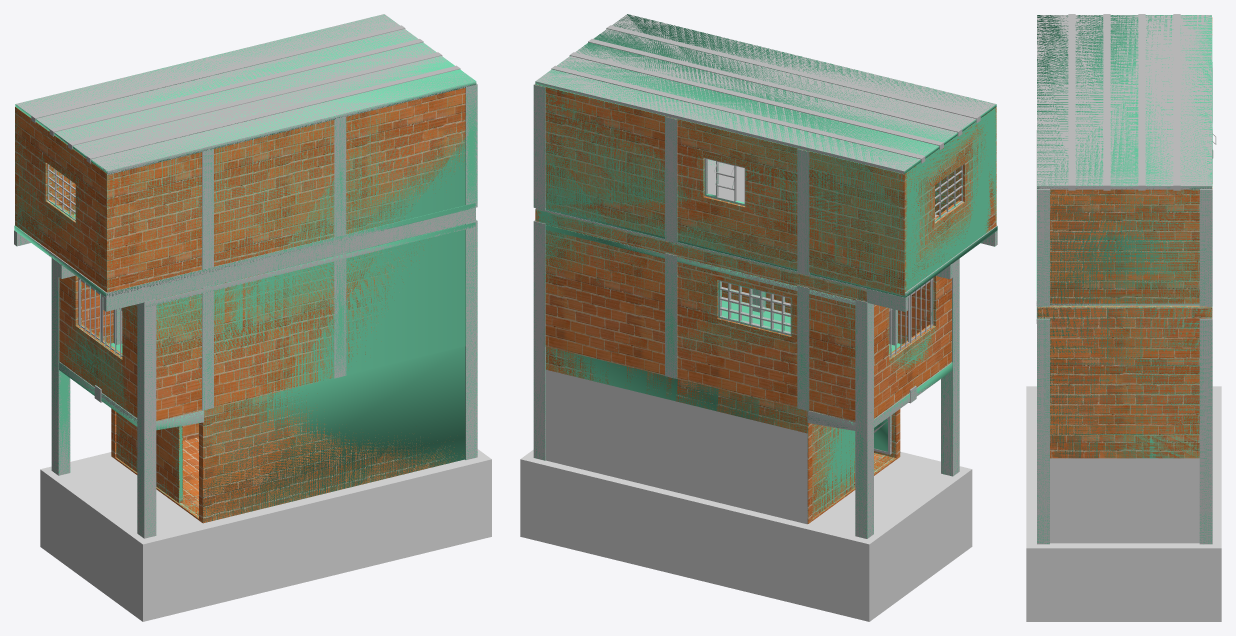
File: CASA 14.fbx
3 views of the same model, side by side, from view 1: azimuth 30°, elevation 25°; view 2: azimuth 150°, elevation 25°; view 3: azimuth 270°, elevation 25° (orthographic). The views are drawn at different scales.
Parts seen in each view (by area): view 1: CASA14_LOD0, UTM_CASA14, Cube_LOD0; view 2: CASA14_LOD0, UTM_CASA14, Cube_LOD0, OCC_Oclusion1; view 3: CASA14_LOD0, UTM_CASA14, Cube_LOD0, OCC_Oclusion2.
Boxes of the visible parts, x1,y1,x2,y2 form: CASA14_LOD0: [14, 14, 477, 538]; UTM_CASA14: [14, 14, 477, 537]; Cube_LOD0: [40, 449, 491, 621]; CASA14_LOD0: [533, 14, 997, 538]; UTM_CASA14: [533, 14, 997, 538]; Cube_LOD0: [520, 449, 972, 621]; OCC_Oclusion1: [546, 369, 807, 524]; CASA14_LOD0: [1036, 14, 1216, 544]; UTM_CASA14: [1036, 15, 1212, 544]; Cube_LOD0: [1026, 386, 1221, 621]; OCC_Oclusion2: [1050, 458, 1199, 543].
Size of what is drawn, in the model's own units: 1026 by 1173 by 480.
